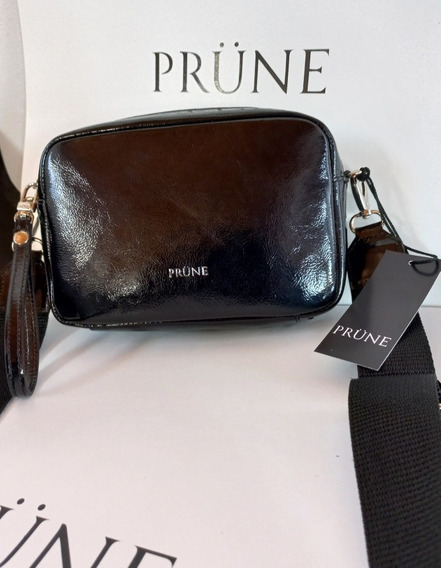cartera: (6, 105, 348, 330)
